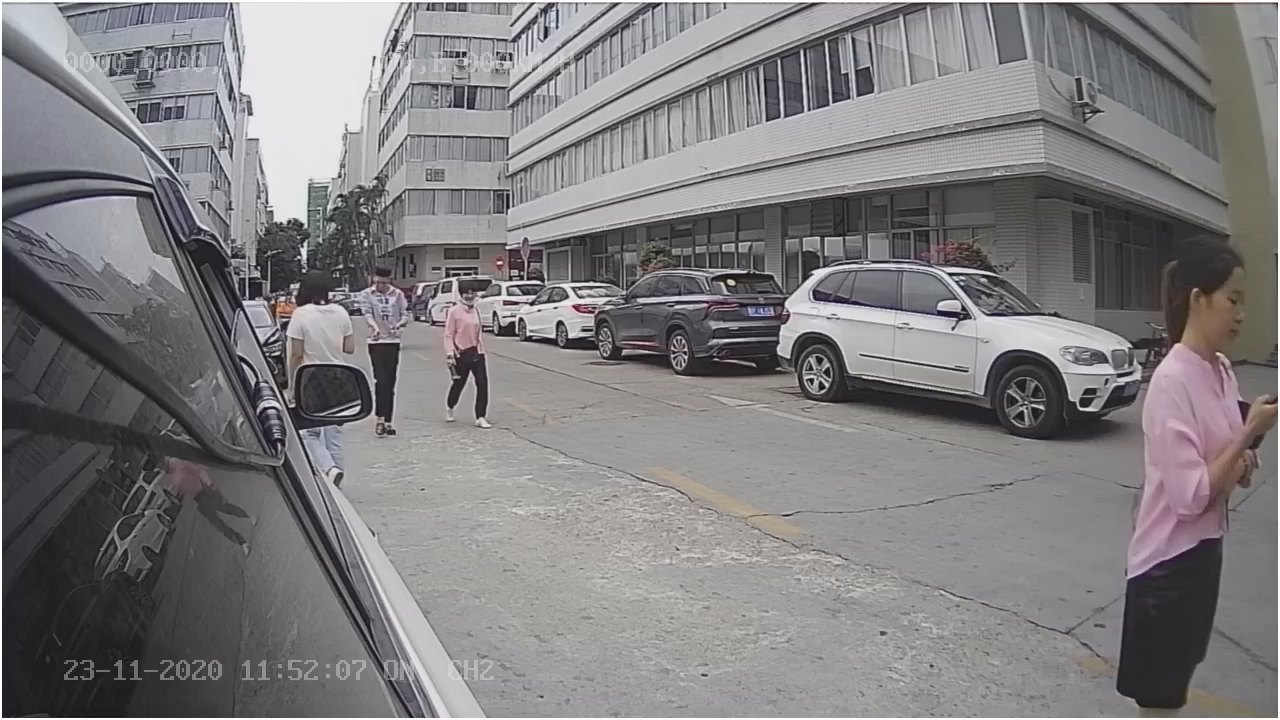person: (433, 283, 505, 437), (355, 257, 416, 352)
